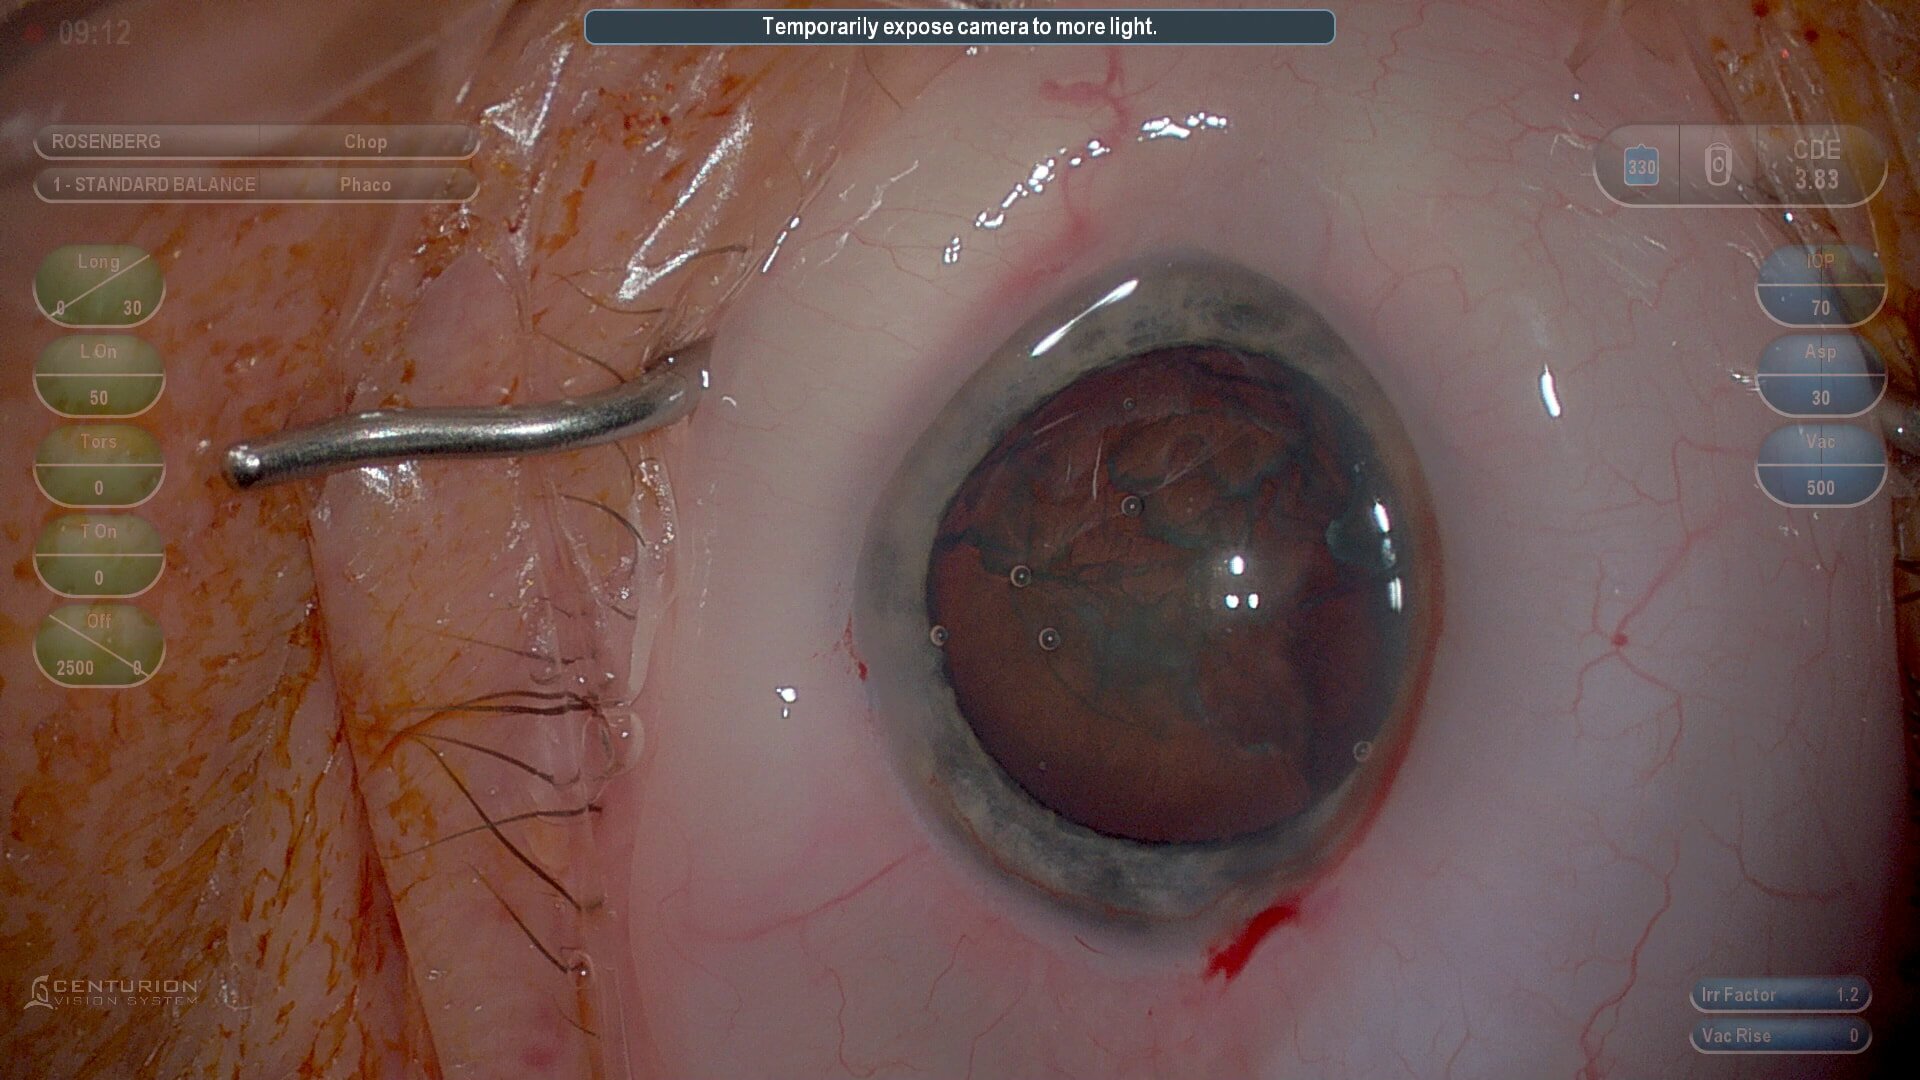iris: (857, 263, 1430, 931)
pupil: (922, 346, 1401, 838)
